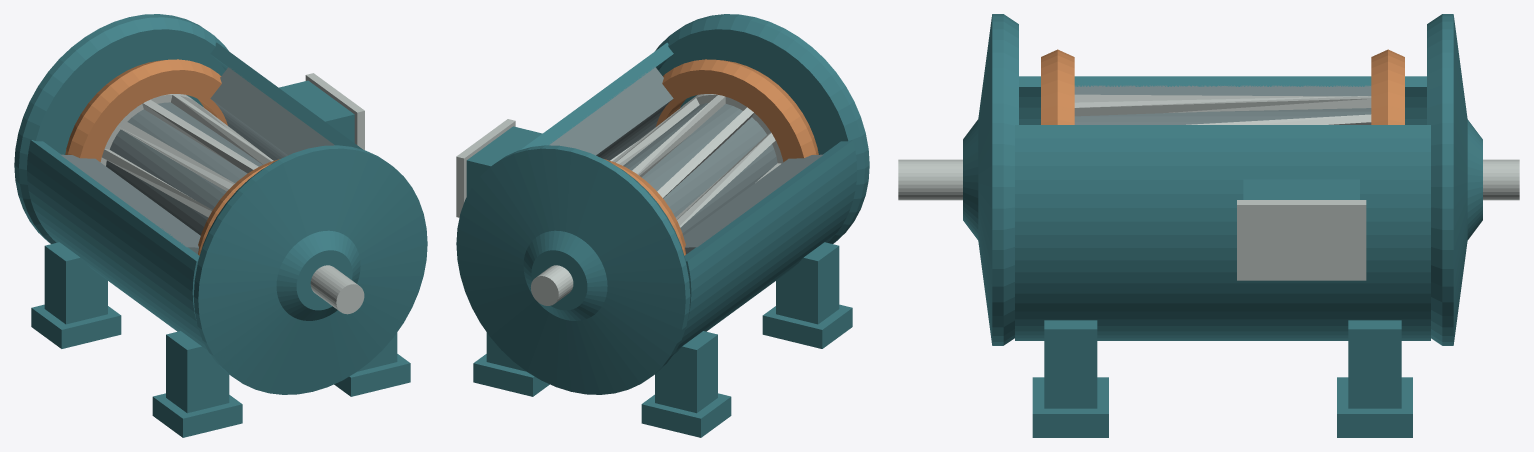
3 renders of one model, left to right at view 1: azimuth 30°, elevation 25°; view 2: azimuth 150°, elevation 25°; view 3: azimuth 270°, elevation 25°, orthographic. The views are drawn at different scales.
Visible parts, largest first — view 1: WholeSteppedBoredEndShieldFront, WholeFootedMotorCutawayCasing, WholeSteppedBoredEndShieldRear, WholeThickAnnularStatorCutaway, WholeBoredRotorCore, WholeCopperEndWindingRear, WholeMotorFootLeft1, WholeMotorFootLeft0, WholeSharedRingAndSkewBarRotorCage, WholeMotorFootRight0, WholeBlankTerminalCase, WholeThroughShaft (+2 smaller); view 2: WholeSteppedBoredEndShieldRear, WholeFootedMotorCutawayCasing, WholeSteppedBoredEndShieldFront, WholeThickAnnularStatorCutaway, WholeBoredRotorCore, WholeCopperEndWindingFront, WholeMotorFootLeft0, WholeMotorFootLeft1, WholeSharedRingAndSkewBarRotorCage, WholeMotorFootRight1, WholeBlankTerminalCase, WholeThroughShaft (+2 smaller); view 3: WholeFootedMotorCutawayCasing, WholeSteppedBoredEndShieldFront, WholeSteppedBoredEndShieldRear, WholeProudTerminalLid, WholeMotorFootRight0, WholeMotorFootRight1, WholeSharedRingAndSkewBarRotorCage, WholeThroughShaft, WholeBoredRotorCore, WholeThickAnnularStatorCutaway, WholeBlankTerminalCase, WholeCopperEndWindingFront (+1 smaller).
Boxes of the visible parts, box(x1,y1,x2,y2) form: WholeSteppedBoredEndShieldFront: box(193, 145, 427, 394); WholeFootedMotorCutawayCasing: box(27, 42, 363, 355); WholeSteppedBoredEndShieldRear: box(14, 14, 228, 243); WholeThickAnnularStatorCutaway: box(60, 67, 334, 254); WholeBoredRotorCore: box(106, 102, 262, 235); WholeCopperEndWindingRear: box(65, 59, 227, 161); WholeMotorFootLeft1: box(31, 242, 121, 348); WholeMotorFootLeft0: box(152, 331, 242, 437); WholeSharedRingAndSkewBarRotorCage: box(100, 94, 273, 217); WholeMotorFootRight0: box(334, 332, 410, 396); WholeBlankTerminalCase: box(279, 80, 354, 142); WholeThroughShaft: box(310, 265, 364, 314); WholeSteppedBoredEndShieldRear: box(456, 145, 690, 394); WholeFootedMotorCutawayCasing: box(521, 42, 856, 356); WholeSteppedBoredEndShieldFront: box(655, 14, 869, 243); WholeThickAnnularStatorCutaway: box(549, 67, 823, 254); WholeBoredRotorCore: box(623, 103, 777, 235); WholeCopperEndWindingFront: box(656, 59, 818, 162); WholeMotorFootLeft0: box(762, 242, 852, 348); WholeMotorFootLeft1: box(641, 331, 731, 437); WholeSharedRingAndSkewBarRotorCage: box(610, 94, 783, 227); WholeMotorFootRight1: box(473, 332, 549, 396); WholeBlankTerminalCase: box(466, 126, 542, 196); WholeThroughShaft: box(530, 265, 573, 305); WholeFootedMotorCutawayCasing: box(1015, 76, 1430, 340); WholeSteppedBoredEndShieldFront: box(963, 14, 1018, 345); WholeSteppedBoredEndShieldRear: box(1427, 14, 1482, 345); WholeProudTerminalLid: box(1237, 200, 1366, 280); WholeMotorFootRight0: box(1032, 320, 1108, 437); WholeMotorFootRight1: box(1337, 320, 1412, 437); WholeSharedRingAndSkewBarRotorCage: box(1074, 94, 1371, 124); WholeThroughShaft: box(898, 159, 1519, 200); WholeBoredRotorCore: box(1074, 108, 1371, 124); WholeThickAnnularStatorCutaway: box(1074, 85, 1371, 96); WholeBlankTerminalCase: box(1243, 179, 1359, 199); WholeCopperEndWindingFront: box(1041, 49, 1074, 124).
Bounding box in the file's own units: 1.51 × 1.48 × 2.45.
